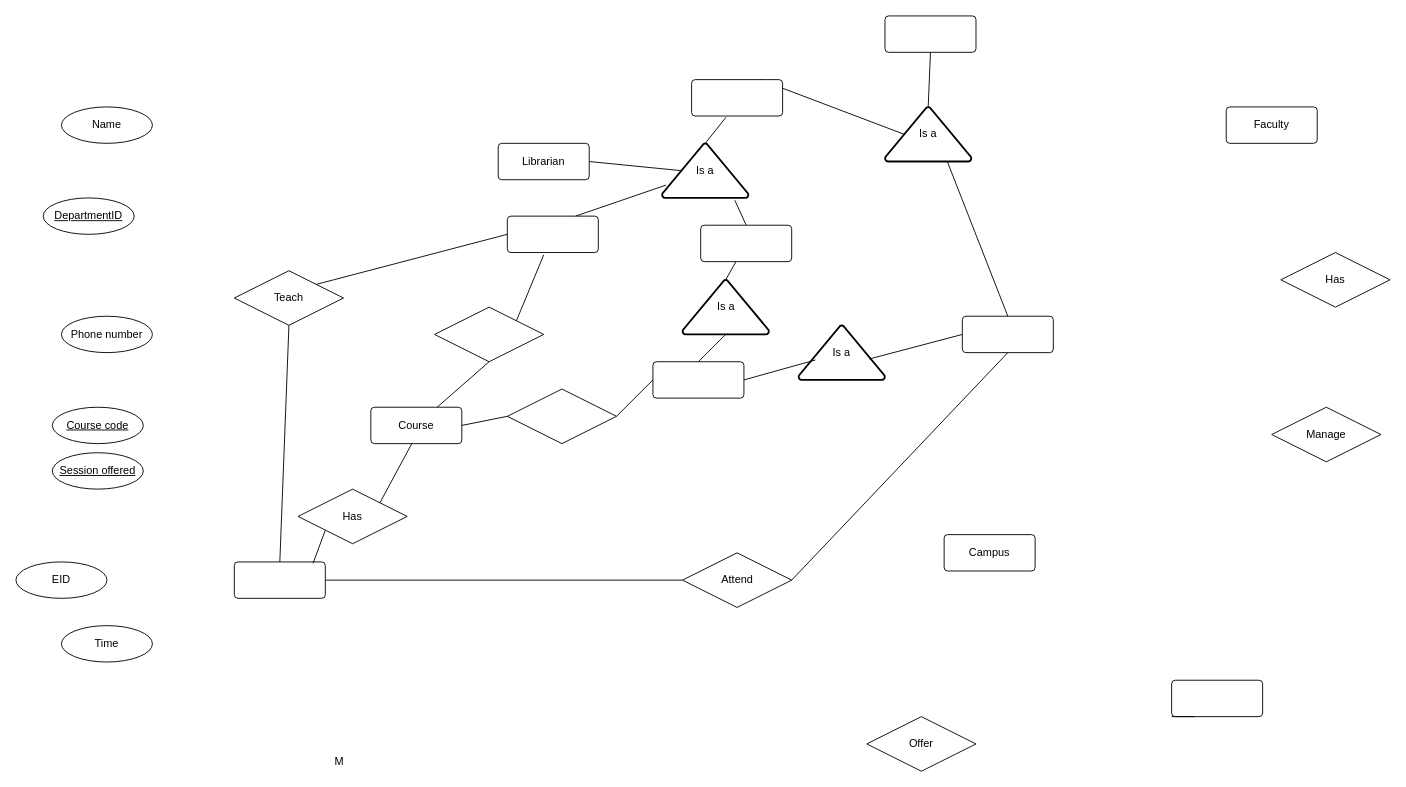
Some shapes in this 1406 by 787 pixel diagram are drawn without their labels. Each missing label, with the centre of its shape:
"Coordinate" goes at (x=489, y=334).
"Department" goes at (x=1217, y=698).
"Employee" goes at (x=737, y=97).
"Lecture session" goes at (x=279, y=579).
"Person" goes at (x=930, y=33).
"Professor" goes at (x=552, y=234).
"Staff" goes at (x=746, y=243).
"Student" goes at (x=1007, y=334).
"Support" goes at (x=561, y=416).
"Teaching Assistant" goes at (x=698, y=379).
